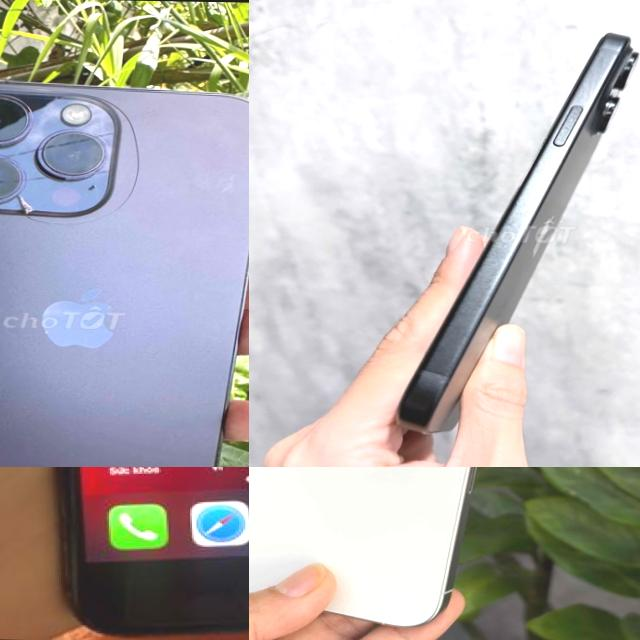gen_14: (0, 82, 249, 467)
gen_15: (377, 18, 640, 439), (249, 467, 521, 631)
gen_7_8: (13, 467, 249, 639)
